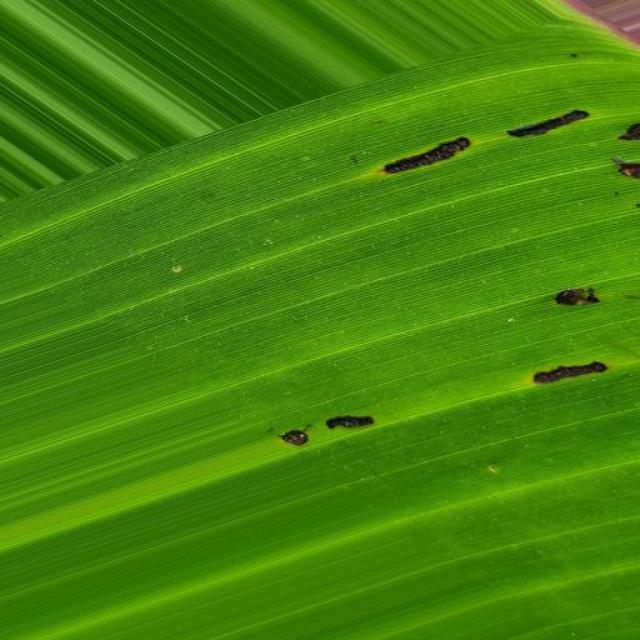Black_rot: (354, 94, 640, 202), (524, 267, 632, 406), (274, 398, 412, 446)
